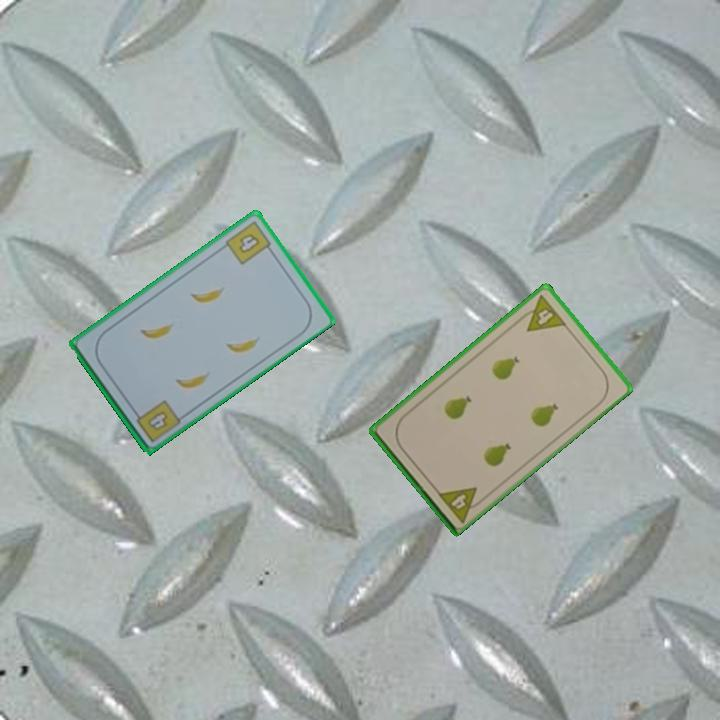4b: (222, 217, 276, 268), (129, 396, 182, 445)
4p: (515, 291, 569, 334), (434, 483, 487, 525)
